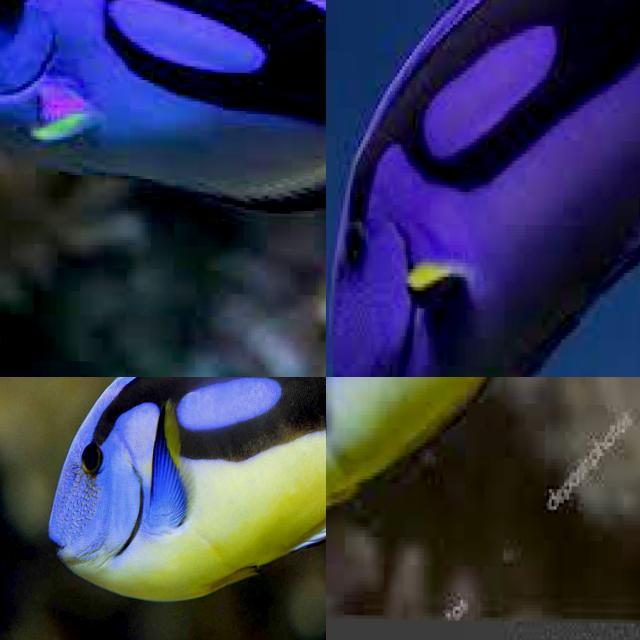BlueTang: (326, 0, 640, 377), (4, 0, 326, 197), (50, 377, 326, 602)
